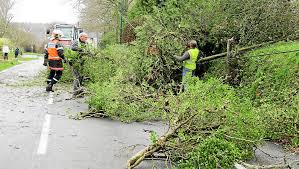obstacle: (137, 83, 270, 169), (79, 74, 172, 127)
person: (175, 38, 204, 96), (42, 29, 68, 93), (70, 33, 94, 92)
